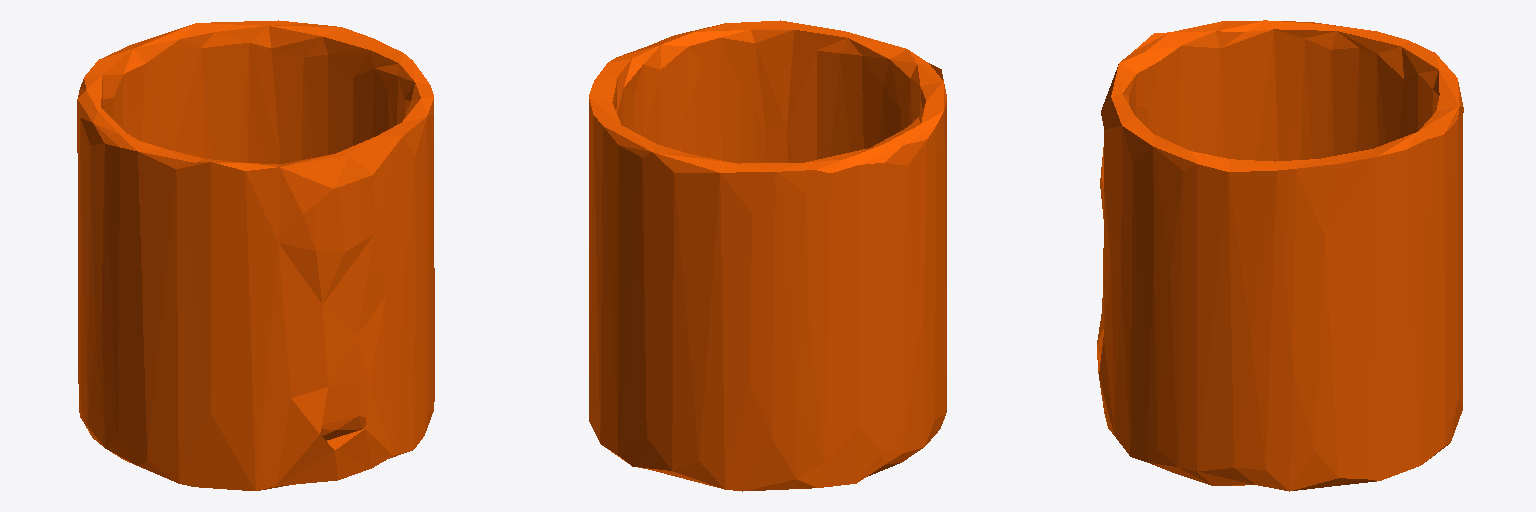
The robot description file, URDF, robot "Mug_8556_handle":
<?xml version="1.0" ?>
<robot name="Mug_8556_handle">
   <material name="obj_color">
      <color rgba="1.0 0.423529411765 0.0392156862745 1.0"/>
   </material>
   <link name="top">
      <inertial>
         <origin rpy="3.381939774282257e-06 7.411072792648308e-06 1.013651363289575e-05" xyz="-0.001373753255641058 -0.0562831905428189 0.005205321831338617"/>
         <mass value="0.02615753451522115"/>
         <inertia ixx="1.013537831414504e-05" ixy="3.161033505807076e-08" ixz="-7.423971227066731e-08" iyy="7.401894742444764e-06" iyz="1.950422665650302e-07" izz="3.392253143236505e-06"/>
      </inertial>
      <visual>
         <origin rpy="0 0 0" xyz="0 0 0"/>
         <geometry>
            <mesh filename="top_watertight_tiny.stl" scale="1 1 1"/>
         </geometry>
         <material name="obj_color"/>
      </visual>
      <collision>
         <origin rpy="0 0 0" xyz="0 0 0"/>
         <geometry>
            <mesh filename="top_watertight_tiny.obj" scale="1 1 1"/>
         </geometry>
      </collision>
   </link>
   <link name="bottom">
      <inertial>
         <origin rpy="0.0003845583922101518 0.0004454362256095715 0.0004505300429946164" xyz="-0.0002013523066449916 0.002923481244561686 0.005302052236195113"/>
         <mass value="0.4443619773118319"/>
         <inertia ixx="0.0004504961777937367" ixy="-4.125854826130663e-07" ixz="9.130952601145877e-08" iyy="0.0004454668028880841" iyz="-4.393793497136175e-07" izz="0.0003845616801325187"/>
      </inertial>
      <visual>
         <origin rpy="0 0 0" xyz="0 0 0"/>
         <geometry>
            <mesh filename="bottom_watertight_tiny.stl" scale="1 1 1"/>
         </geometry>
         <material name="obj_color"/>
      </visual>
      <collision>
         <origin rpy="0 0 0" xyz="0 0 0"/>
         <geometry>
            <mesh filename="bottom_watertight_tiny.obj" scale="1 1 1"/>
         </geometry>
      </collision>
   </link>
   <link name="world"/>
   <joint name="world_to_base" type="fixed">
      <origin xyz="0 0 0"/>
      <axis xyz="0 0 0"/>
      <parent link="world"/>
      <child link="bottom"/>
   </joint>
   <joint name="rotation" type="revolute">
      <origin xyz="0 0 0"/>
      <axis xyz="0 0 -1"/>
      <parent link="bottom"/>
      <child link="top"/>
      <dynamics damping="1.0" friction="1.0"/>
      <limit effort="0.1" velocity="0.1" lower="0" upper="0.001"/>
   </joint>
</robot>

--- Render facts (derived) ---
Views: 3 orthographic renders of the robot side by side, from view 1: azimuth 30°, elevation 25°; view 2: azimuth 150°, elevation 25°; view 3: azimuth 270°, elevation 25°.
Model Mug_8556_handle with 3 links and 2 joints (1 revolute, 1 fixed), rooted at world, posed every joint at zero.
Visible links, largest first — view 1: bottom; view 2: bottom; view 3: bottom.
Link boxes in pixels (box(x1,y1,x2,y2)): bottom: box(77, 20, 434, 490); bottom: box(589, 20, 946, 491); bottom: box(1097, 20, 1463, 491).
Bounding box of the posed robot: 0.083 × 0.0846 × 0.0845 m (x, y, z).
Meshes: 2 distinct files referenced, 1 mesh visuals loaded (1 binary STL); not drawn: 1 (reference not matched to a file when rendering).